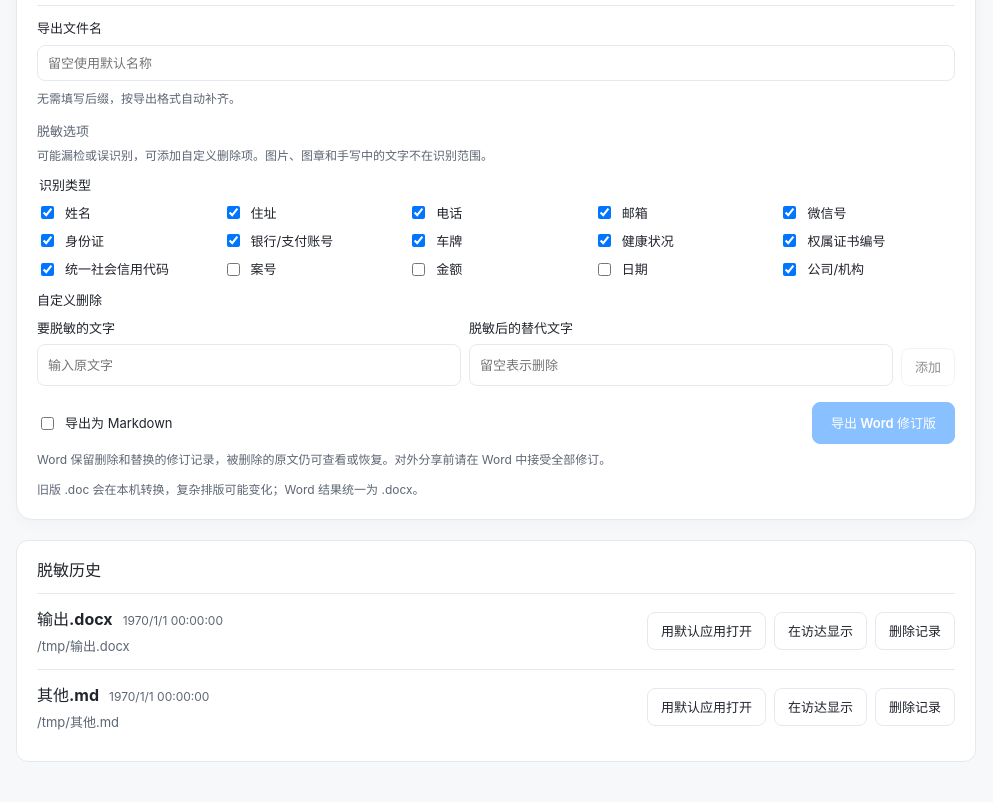
Test: history deletion requires confirmation and retains the entry on failure
(page scrolled)
Click the button with aria-label "删除 输出.docx 的记录".
click(915, 631)  # box x1=875 y1=612 x2=955 y2=650
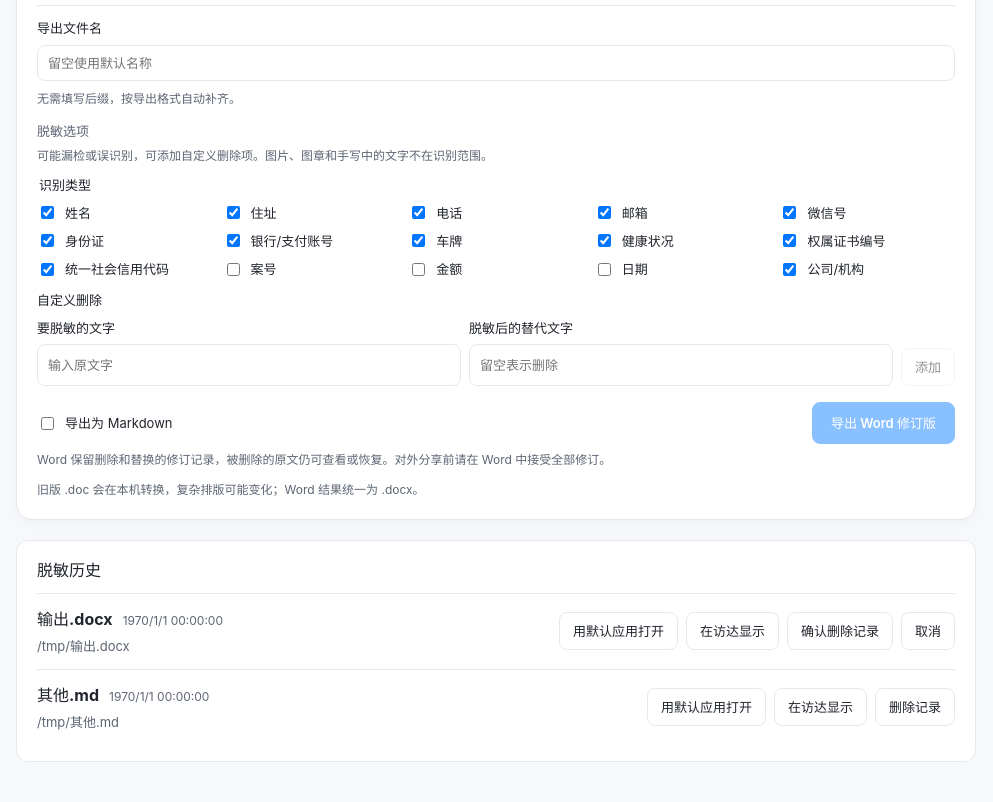
Click the button "取消".
click(928, 631)  # box x1=901 y1=612 x2=955 y2=650
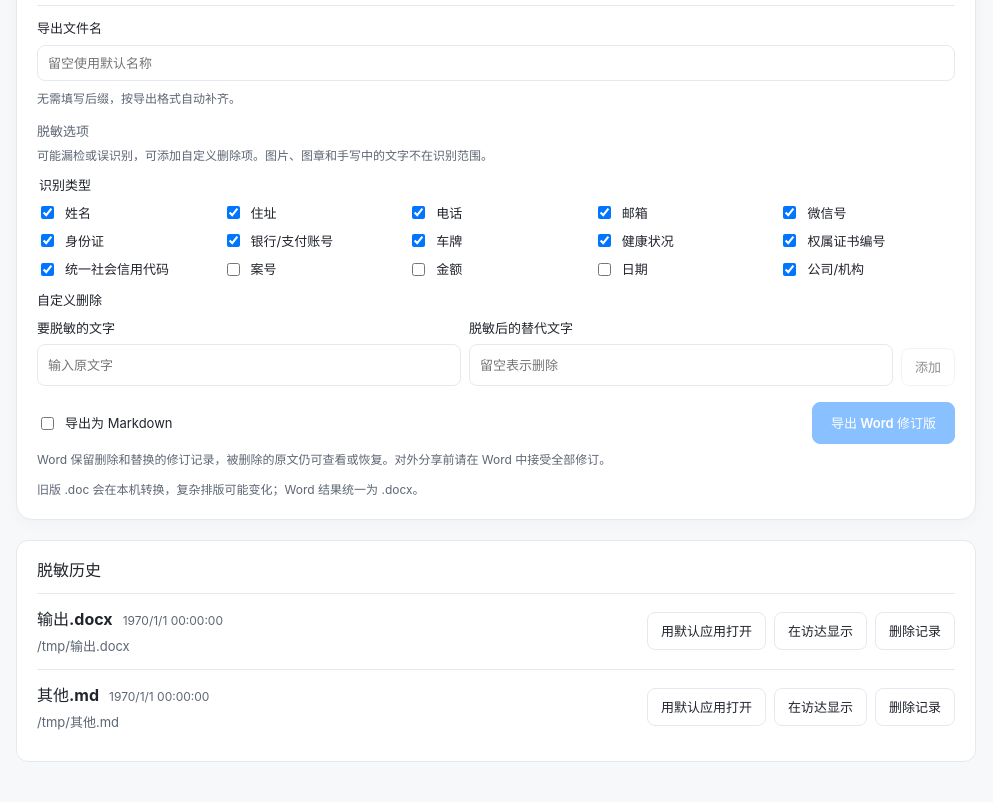
Click the button with aria-label "删除 输出.docx 的记录".
click(915, 631)  # box x1=875 y1=612 x2=955 y2=650
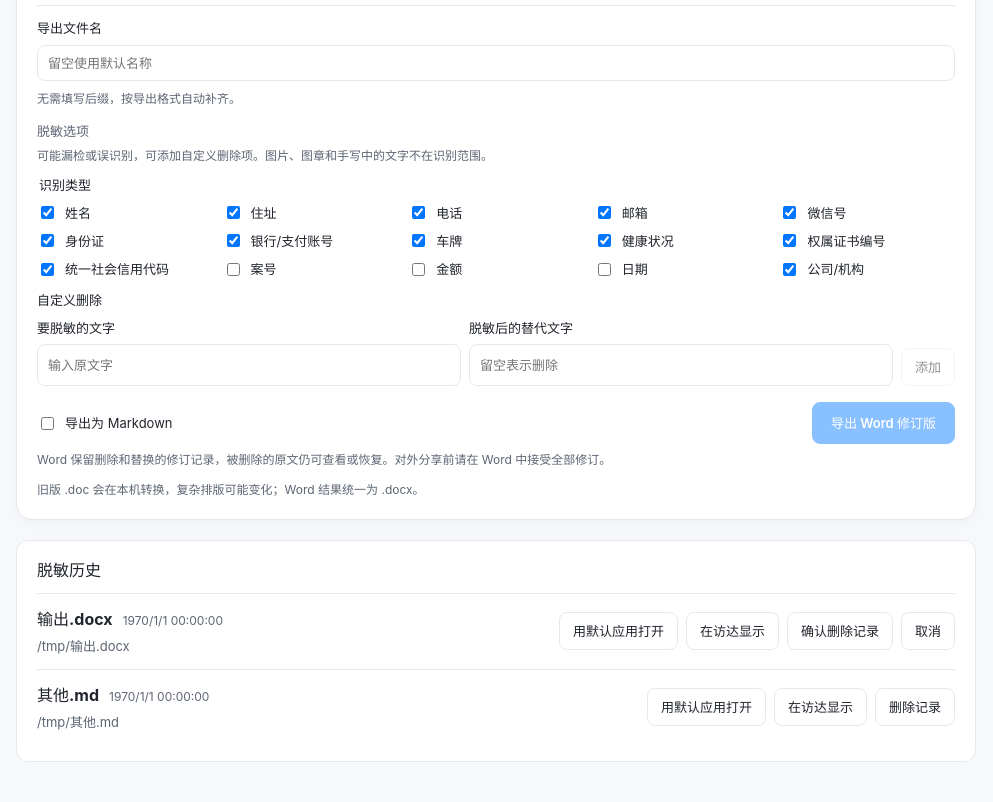
Click the button "确认删除记录".
click(840, 631)  # box x1=787 y1=612 x2=893 y2=650
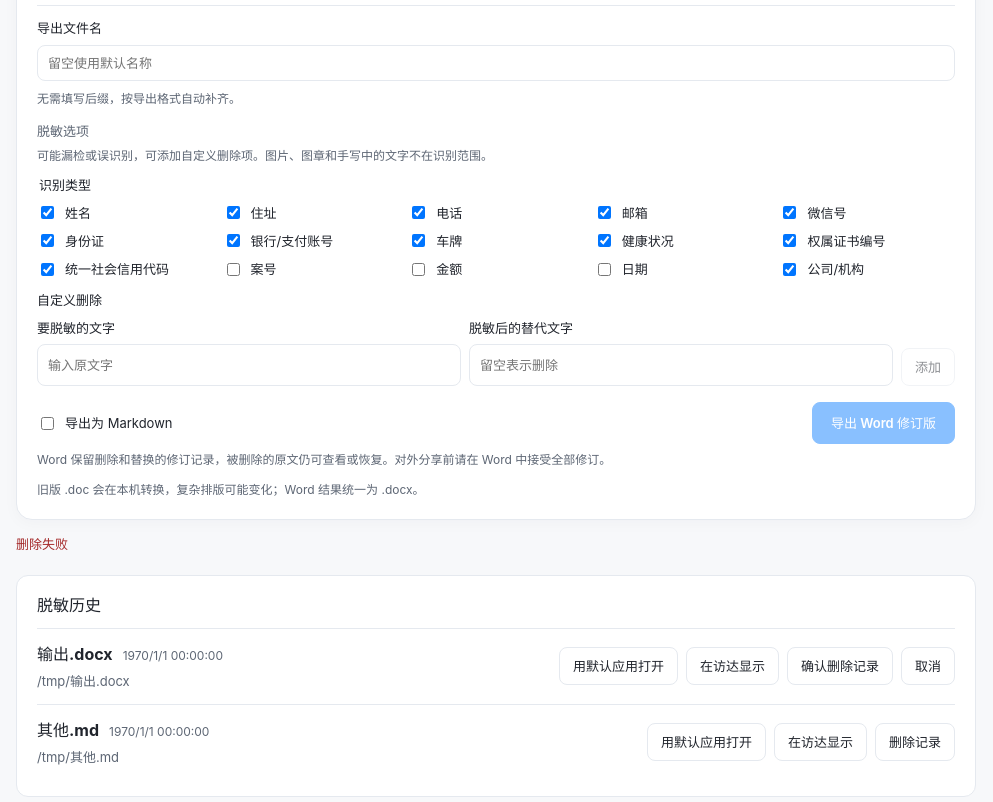
Expected: the text "输出.docx" is shown, x1=37 y1=644 x2=113 y2=664
Expected: the message reads "删除失败", x1=16 y1=536 x2=68 y2=552
Click the button "确认删除记录".
click(840, 666)  # box x1=787 y1=647 x2=893 y2=685
(page scrolled)
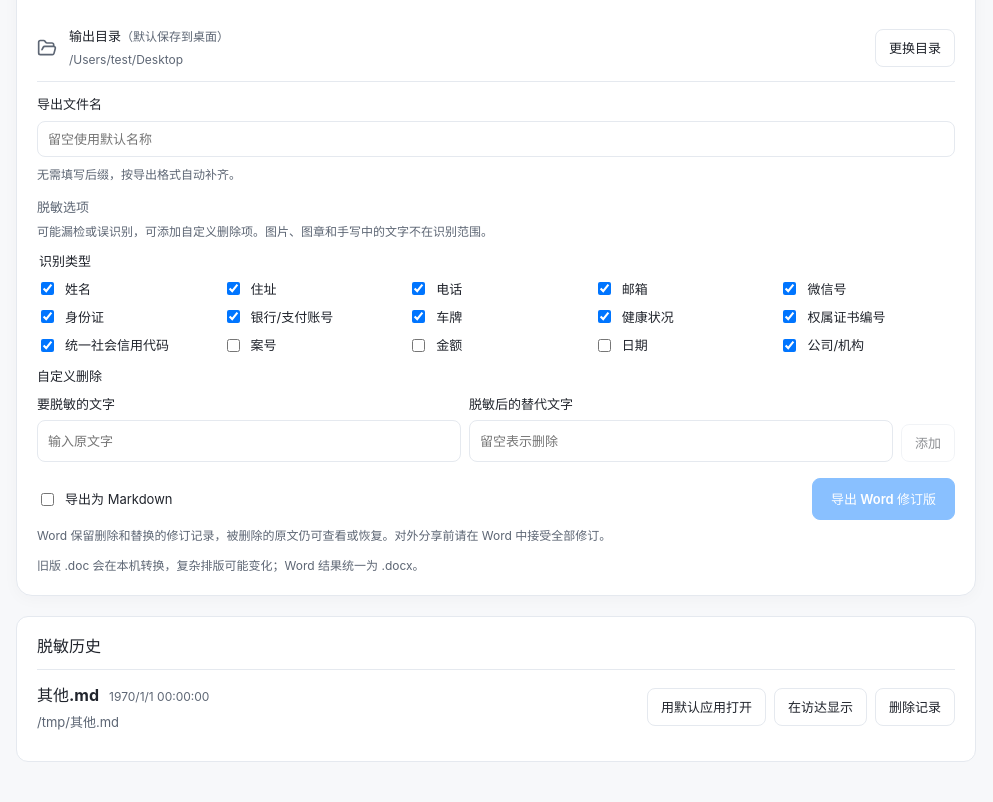
Expected: the text "其他.md" is shown, x1=37 y1=685 x2=99 y2=705
Expected: the text "输出.docx" is gone
